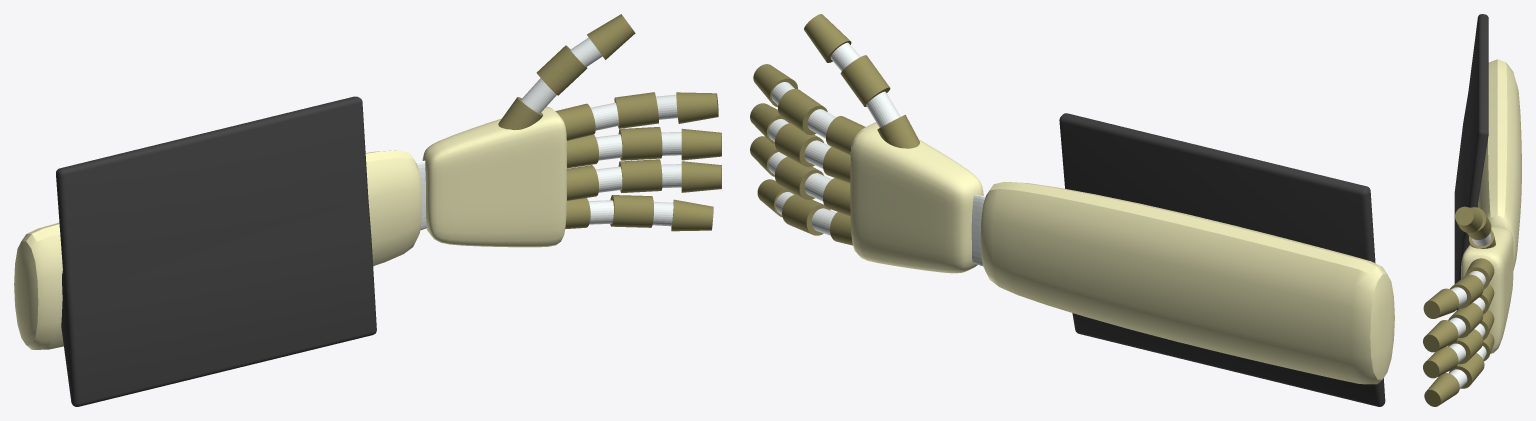
The model's file is arm.fbx.
3 views of the same model, side by side, from view 1: azimuth 30°, elevation 25°; view 2: azimuth 150°, elevation 25°; view 3: azimuth 270°, elevation 25° (orthographic). The views are drawn at different scales.
Visible parts, largest first — view 1: Cube.003, Cube, Cube.001, Cylinder, Cylinder.002, Cylinder.001, Cylinder.012, Cylinder.003, Cylinder.014; view 2: Cube.001, Cube.003, Cube, Cylinder.012, Cylinder, Cylinder.001, Cylinder.002, Cylinder.003, Cylinder.014, Cube.002; view 3: Cube.001, Cube.003, Cube, Cylinder, Cylinder.001, Cylinder.003, Cylinder.002, Cylinder.012, Cylinder.004, Cylinder.005, Cylinder.006, Cylinder.007 (+2 smaller).
Part boxes in pixels (x1,y1,x2,y2): Cube.003: [56, 96, 376, 406]; Cube: [422, 106, 566, 247]; Cube.001: [14, 150, 422, 349]; Cylinder: [555, 92, 718, 140]; Cylinder.002: [567, 159, 721, 200]; Cylinder.001: [567, 127, 721, 168]; Cylinder.012: [498, 14, 635, 130]; Cylinder.003: [565, 195, 713, 231]; Cylinder.014: [521, 78, 556, 113]; Cube.001: [980, 182, 1394, 384]; Cube.003: [1059, 113, 1385, 406]; Cube: [850, 122, 983, 273]; Cylinder.012: [804, 14, 919, 148]; Cylinder: [753, 64, 865, 155]; Cylinder.001: [750, 103, 850, 182]; Cylinder.002: [750, 136, 850, 216]; Cylinder.003: [757, 179, 852, 245]; Cylinder.014: [866, 91, 900, 127]; Cube.002: [971, 194, 985, 265]; Cube.001: [1478, 59, 1521, 270]; Cube.003: [1454, 14, 1488, 310]; Cube: [1461, 226, 1513, 353]; Cylinder: [1423, 258, 1494, 318]; Cylinder.001: [1423, 284, 1494, 352]; Cylinder.003: [1424, 332, 1494, 406]; Cylinder.002: [1423, 309, 1494, 378]; Cylinder.012: [1455, 206, 1495, 248]; Cylinder.004: [1449, 369, 1467, 388]; Cylinder.005: [1449, 343, 1465, 362]; Cylinder.006: [1449, 317, 1465, 337]; Cylinder.007: [1451, 287, 1466, 306].
Size of the model in its own units: 1051 by 385 by 170.
